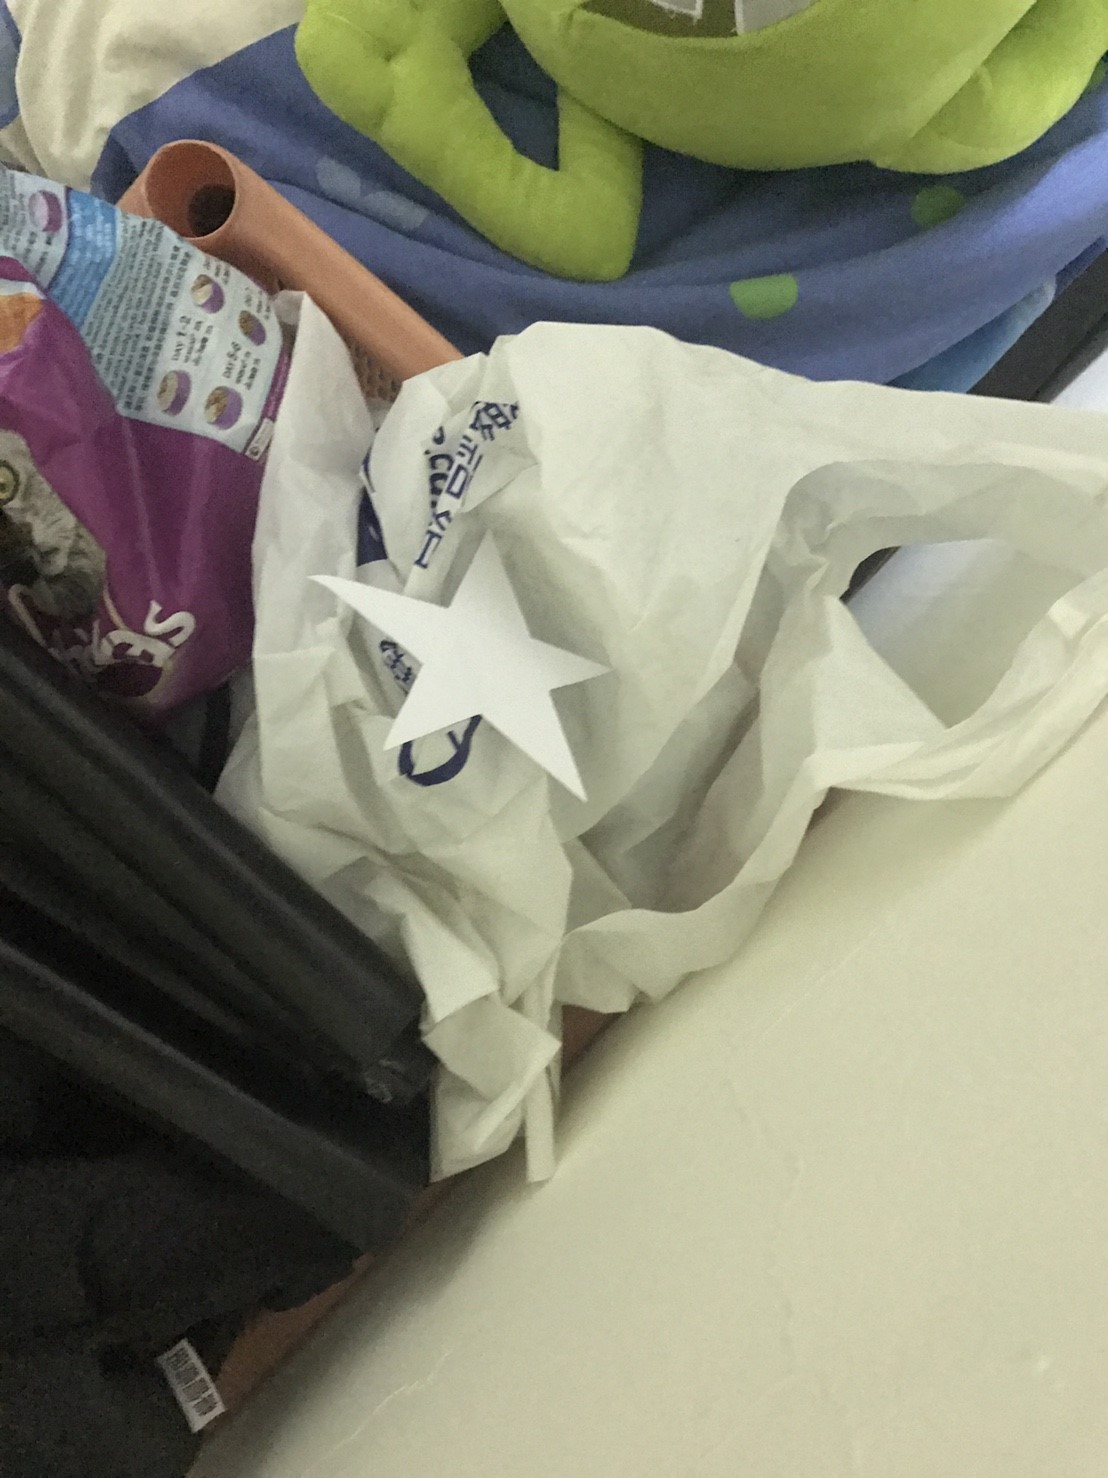star: (300, 497, 670, 820)
